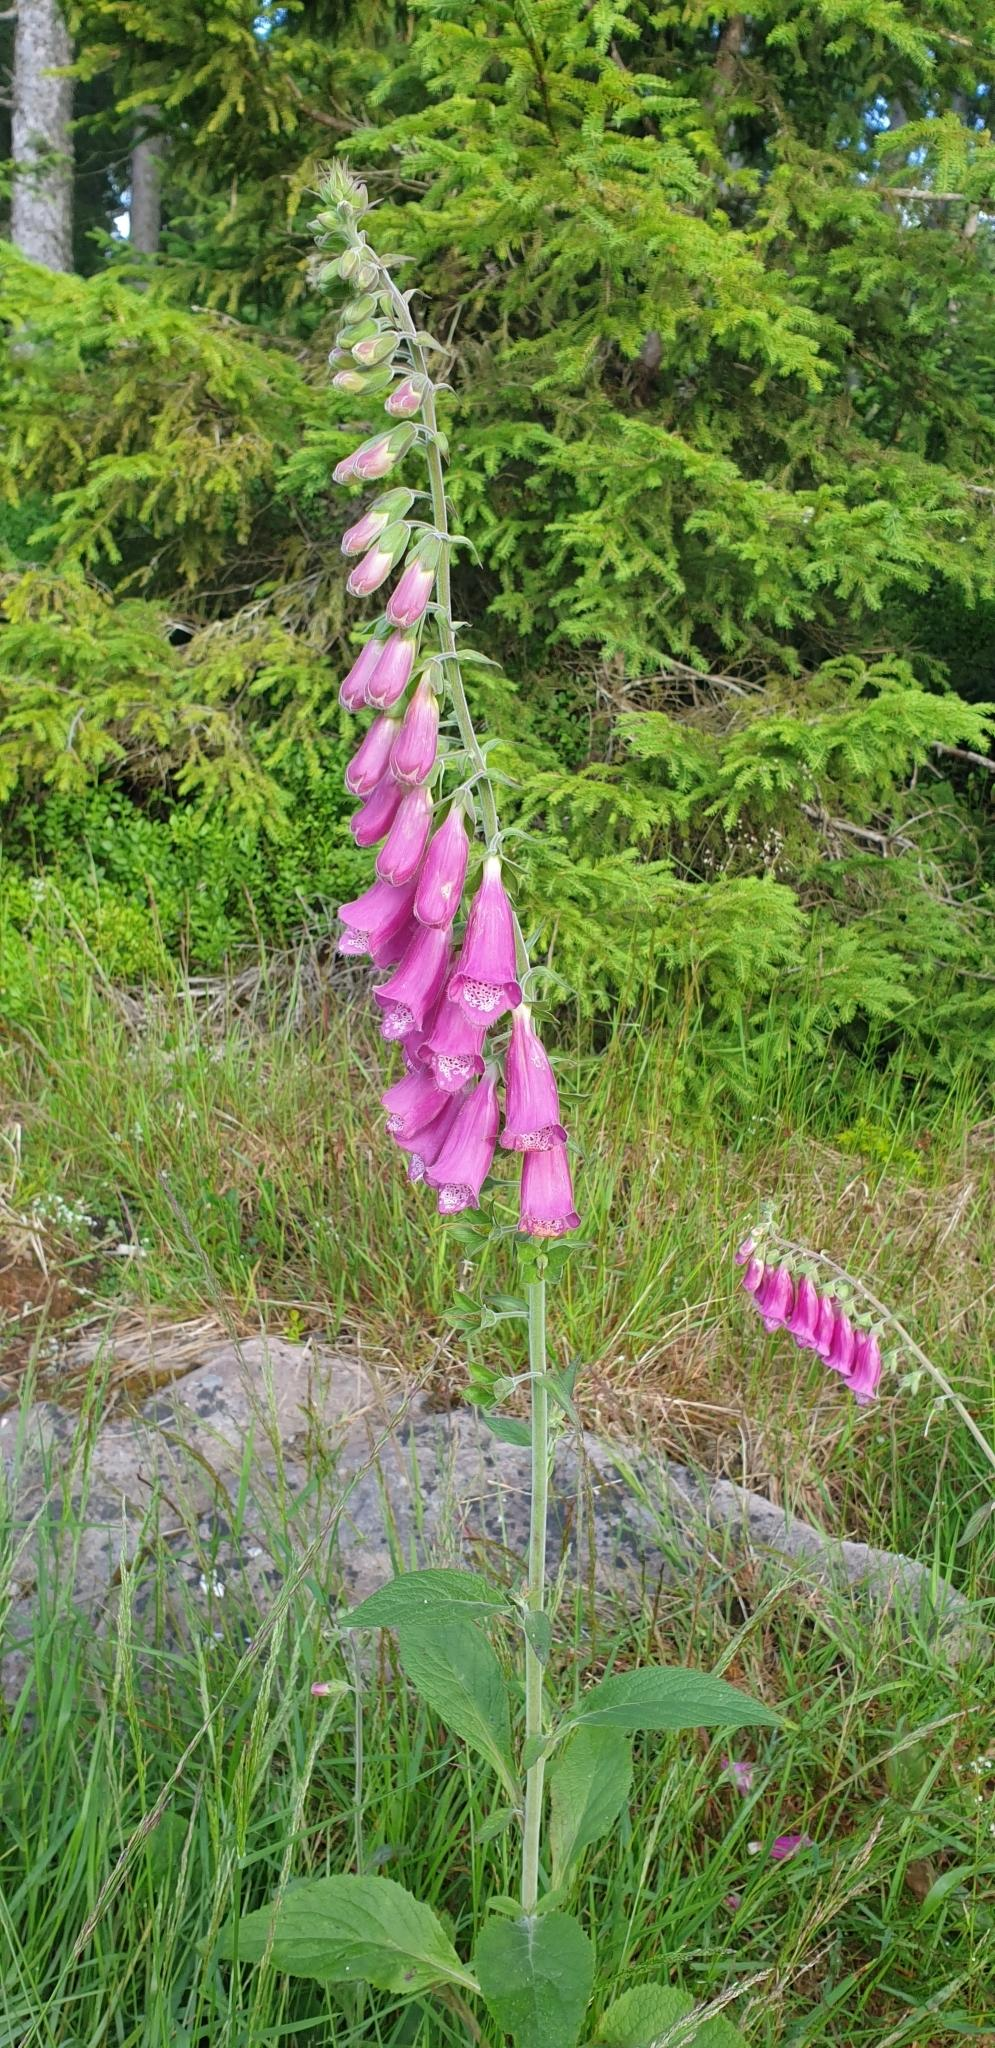Digitalis L: (294, 166, 686, 2021), (730, 1208, 995, 1479)
